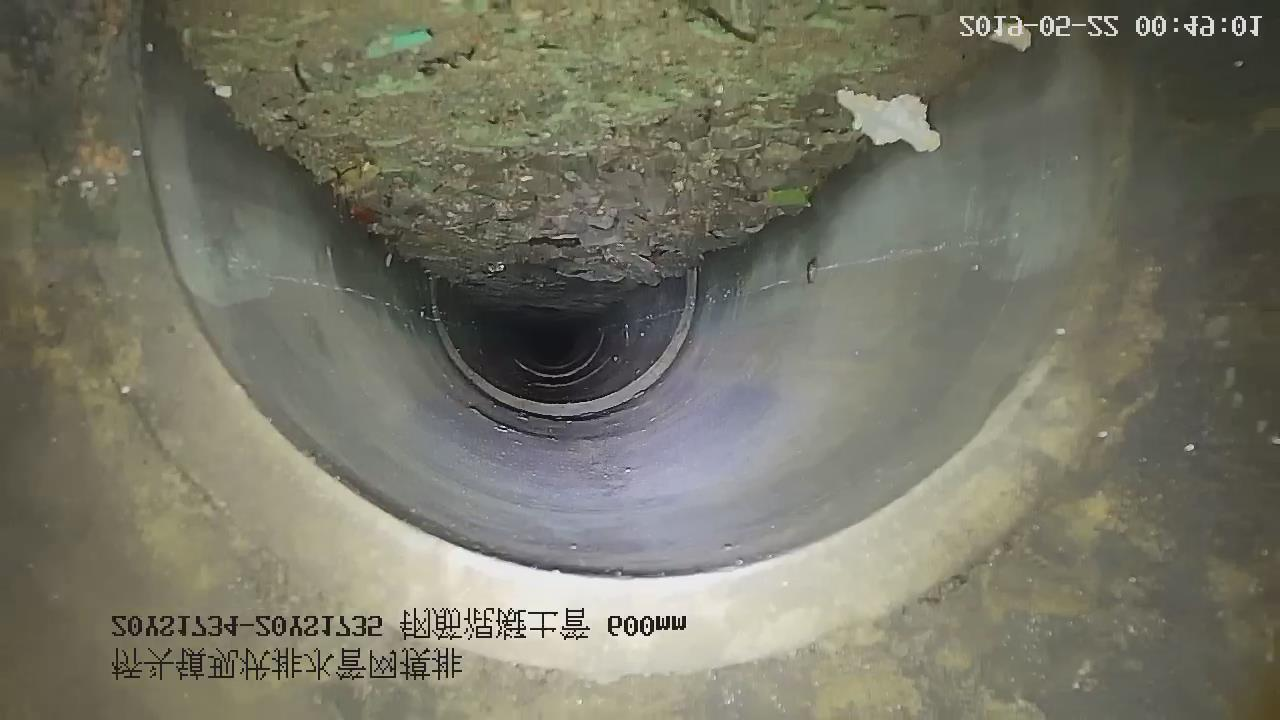CJ: (163, 1, 1029, 309)
CKTJ: (429, 268, 698, 417)
